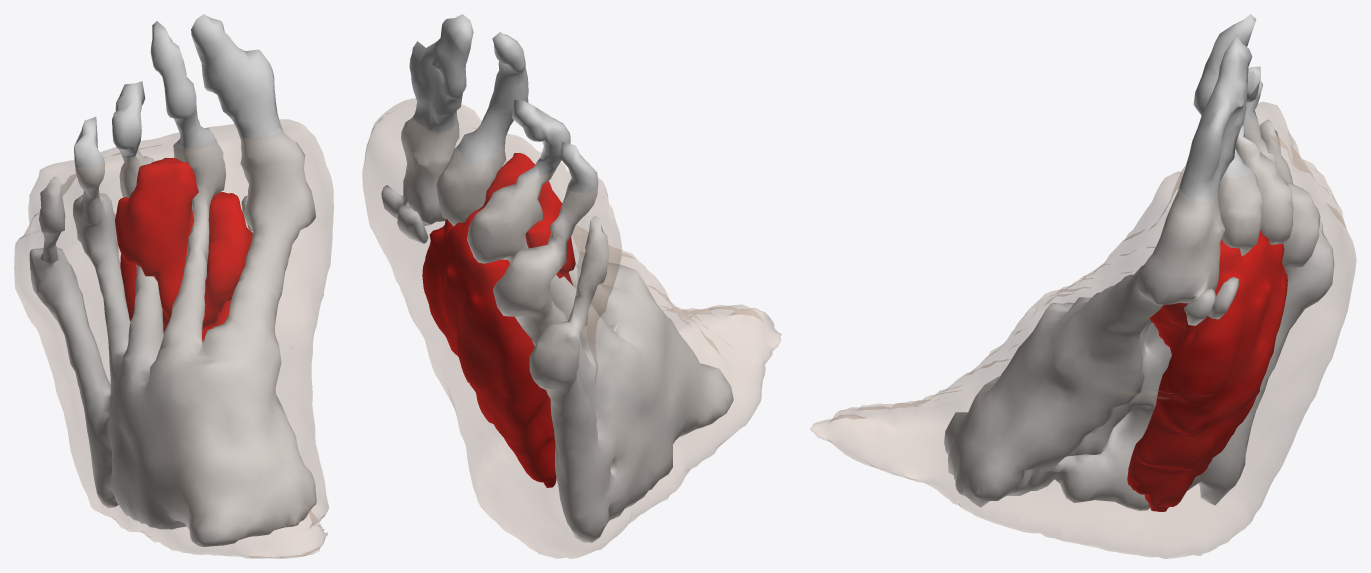
Rendered from foot_sarcoma_skin_redo_centered.fbx.
3 views of the same model, side by side, from view 1: azimuth 30°, elevation 25°; view 2: azimuth 150°, elevation 25°; view 3: azimuth 270°, elevation 25° (orthographic). The views are drawn at different scales.
Visible parts, largest first — view 1: skin, bone, tumor; view 2: skin, bone, tumor; view 3: skin, bone, tumor.
Boxes of the visible parts, x1,y1,x2,y2 form: skin: (14,119,333,558); bone: (29,14,316,546); tumor: (115,158,252,341); skin: (362,98,781,558); bone: (381,14,733,542); tumor: (422,153,575,487); skin: (810,102,1356,558); bone: (944,14,1334,510); tumor: (1127,230,1287,511).
Size of the model in its own units: 8.54 by 14.72 by 13.68.
